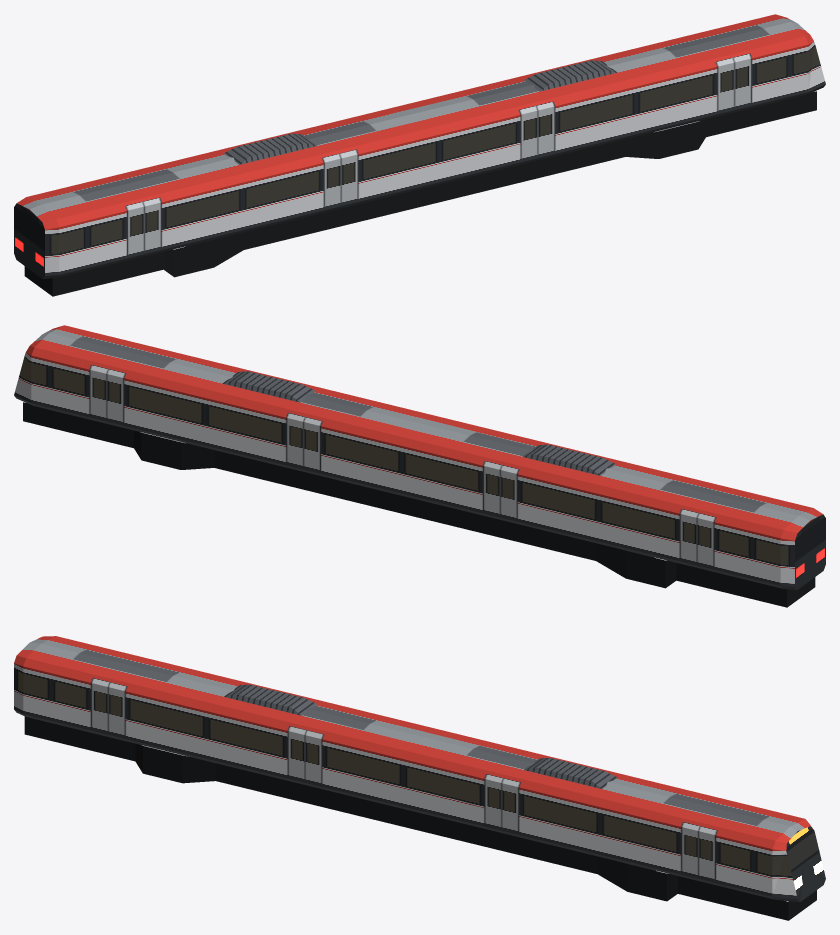
Rendered from breda_vlc__cab.glb.
3 views of the same model, one above another, from view 1: azimuth 30°, elevation 25°; view 2: azimuth 150°, elevation 25°; view 3: azimuth 330°, elevation 25° (orthographic).
Visible parts, largest first — view 1: breda_vlc__cab; view 2: breda_vlc__cab; view 3: breda_vlc__cab.
Part boxes in pixels (bbox=[...]): breda_vlc__cab: bbox=[14, 14, 825, 296]; breda_vlc__cab: bbox=[14, 325, 825, 607]; breda_vlc__cab: bbox=[14, 636, 825, 920].
Size of the model in its own units: 30 by 3.42 by 2.4.
Materials: 1 (1 with a texture image).
